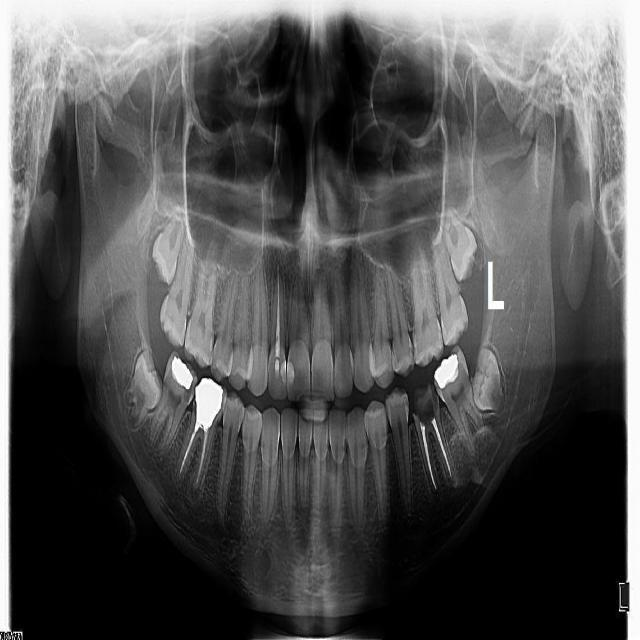74: (174, 419, 202, 478), (430, 419, 455, 481), (419, 421, 435, 489), (194, 427, 210, 489), (274, 264, 282, 360)
NucleOSS Implant: (194, 375, 224, 430), (428, 351, 469, 391), (163, 353, 197, 391)
Sterngold Implant: (406, 382, 449, 430), (181, 374, 197, 407), (167, 310, 177, 330), (408, 344, 414, 359), (436, 325, 441, 337), (414, 342, 418, 357)
Straumann Implant: (287, 358, 295, 388), (280, 355, 286, 386)
